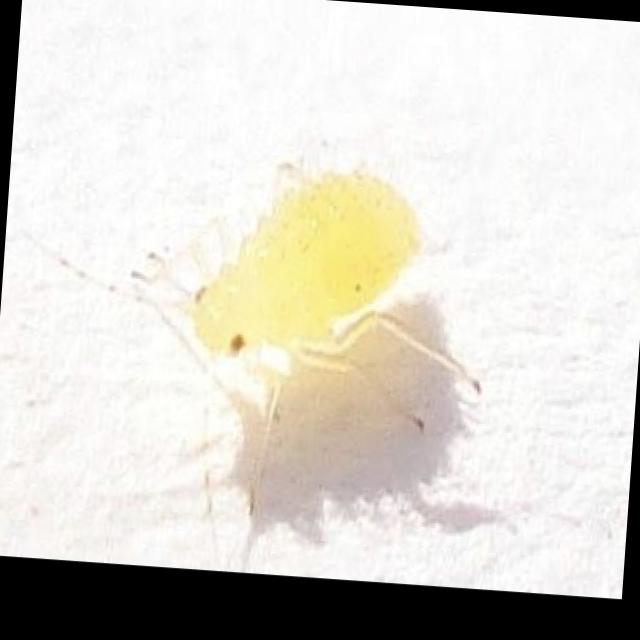Aphid: (60, 74, 555, 543)
